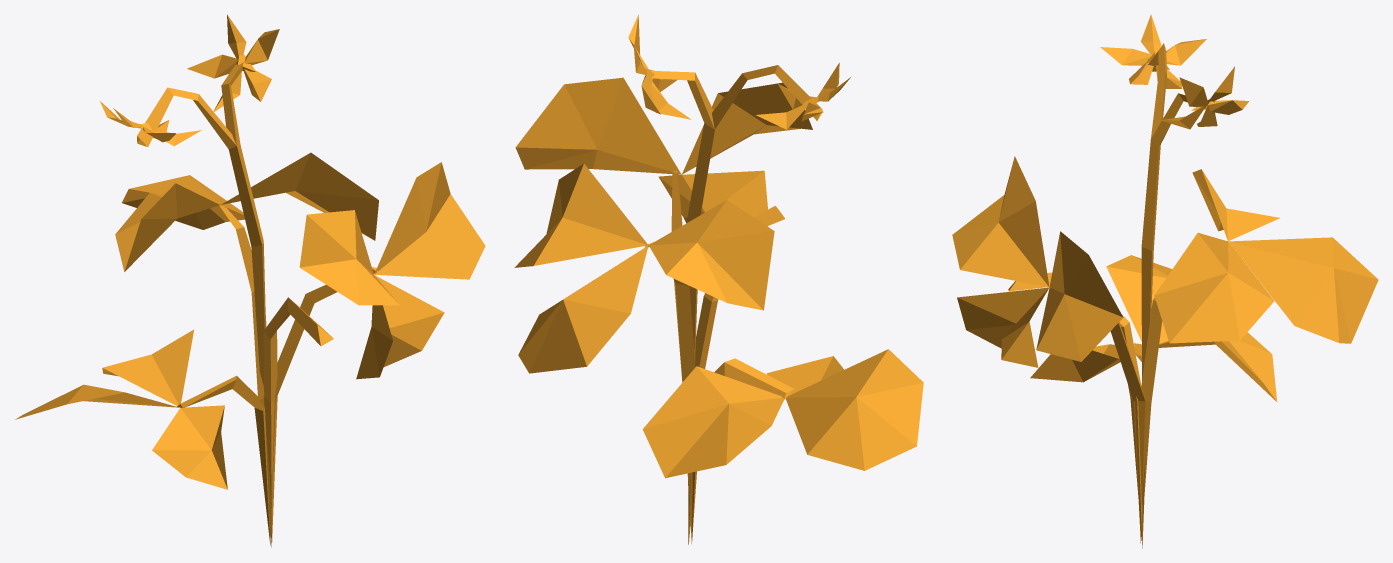
File: strawberry-plant-dead.fbx
3 views of the same model, side by side, from view 1: azimuth 30°, elevation 25°; view 2: azimuth 150°, elevation 25°; view 3: azimuth 270°, elevation 25° (orthographic). The views are drawn at different scales.
Parts seen in each view (by area): view 1: strawberry-plant-dead; view 2: strawberry-plant-dead; view 3: strawberry-plant-dead.
Part boxes in pixels (box(x1,y1,x2,y2)): strawberry-plant-dead: box(15, 14, 485, 547); strawberry-plant-dead: box(514, 14, 923, 544); strawberry-plant-dead: box(952, 14, 1378, 548).
Bounding box in the file's own units: 0.2906 × 0.3334 × 0.266.
